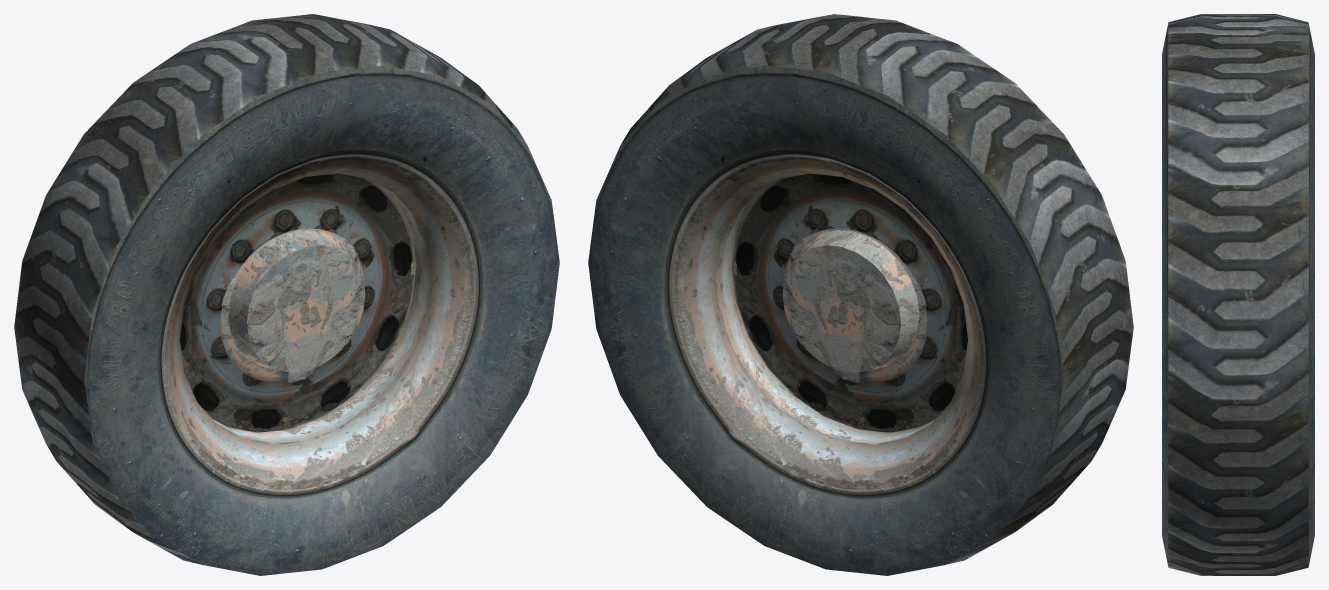
The model's file is tyre_LOD0.fbx.
3 renders of one model, left to right at view 1: azimuth 30°, elevation 25°; view 2: azimuth 150°, elevation 25°; view 3: azimuth 270°, elevation 25°, orthographic.
Visible parts, largest first — view 1: Mesh_Object; view 2: Mesh_Object; view 3: Mesh_Object.
Boxes of the visible parts, <box> form: Mesh_Object: <box>14,14,559,575</box>; Mesh_Object: <box>588,14,1133,575</box>; Mesh_Object: <box>1162,14,1314,575</box>.
Bounding box in the file's own units: 88.58 × 88.58 × 24.
